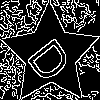D: (25, 30, 81, 86)
